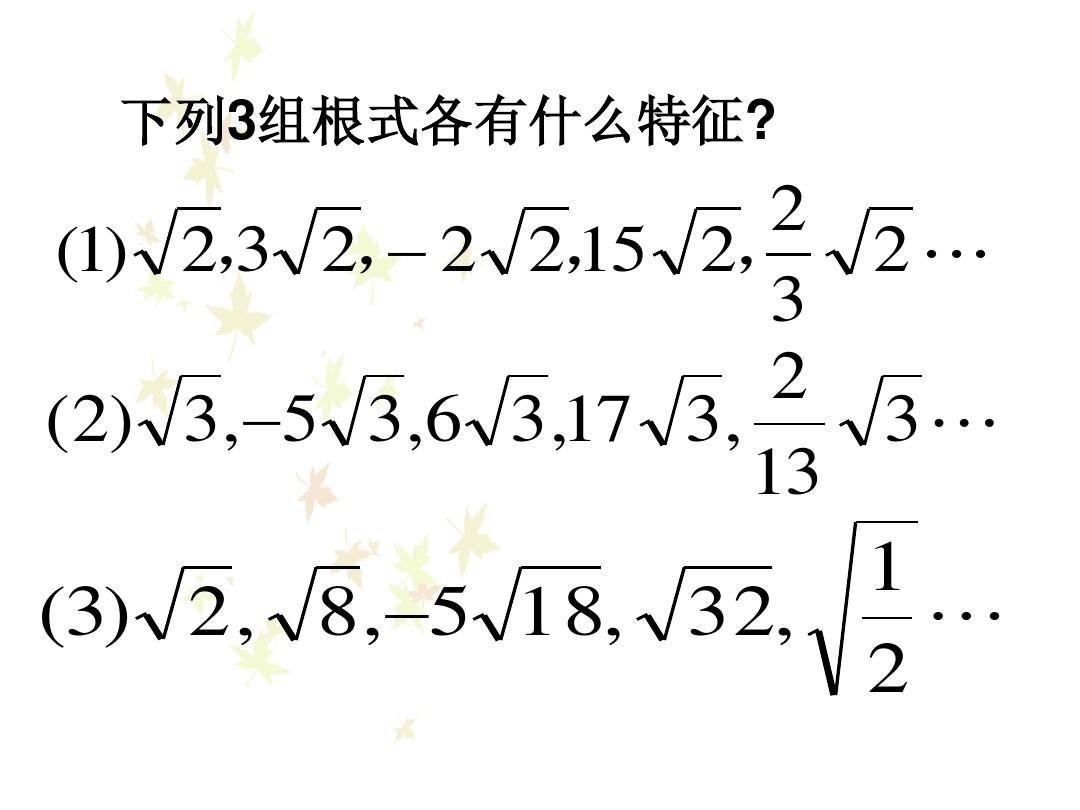division: (752, 414, 829, 434), (859, 605, 915, 630), (763, 245, 814, 267)
sqrt: (812, 517, 934, 697), (467, 559, 605, 643), (635, 560, 774, 641), (266, 561, 367, 645), (820, 204, 920, 282), (461, 372, 557, 451), (141, 561, 240, 636), (636, 368, 725, 451), (324, 368, 410, 450), (658, 200, 745, 278), (837, 367, 921, 447), (285, 200, 364, 282), (490, 200, 578, 273), (146, 369, 227, 447), (148, 198, 221, 279)
